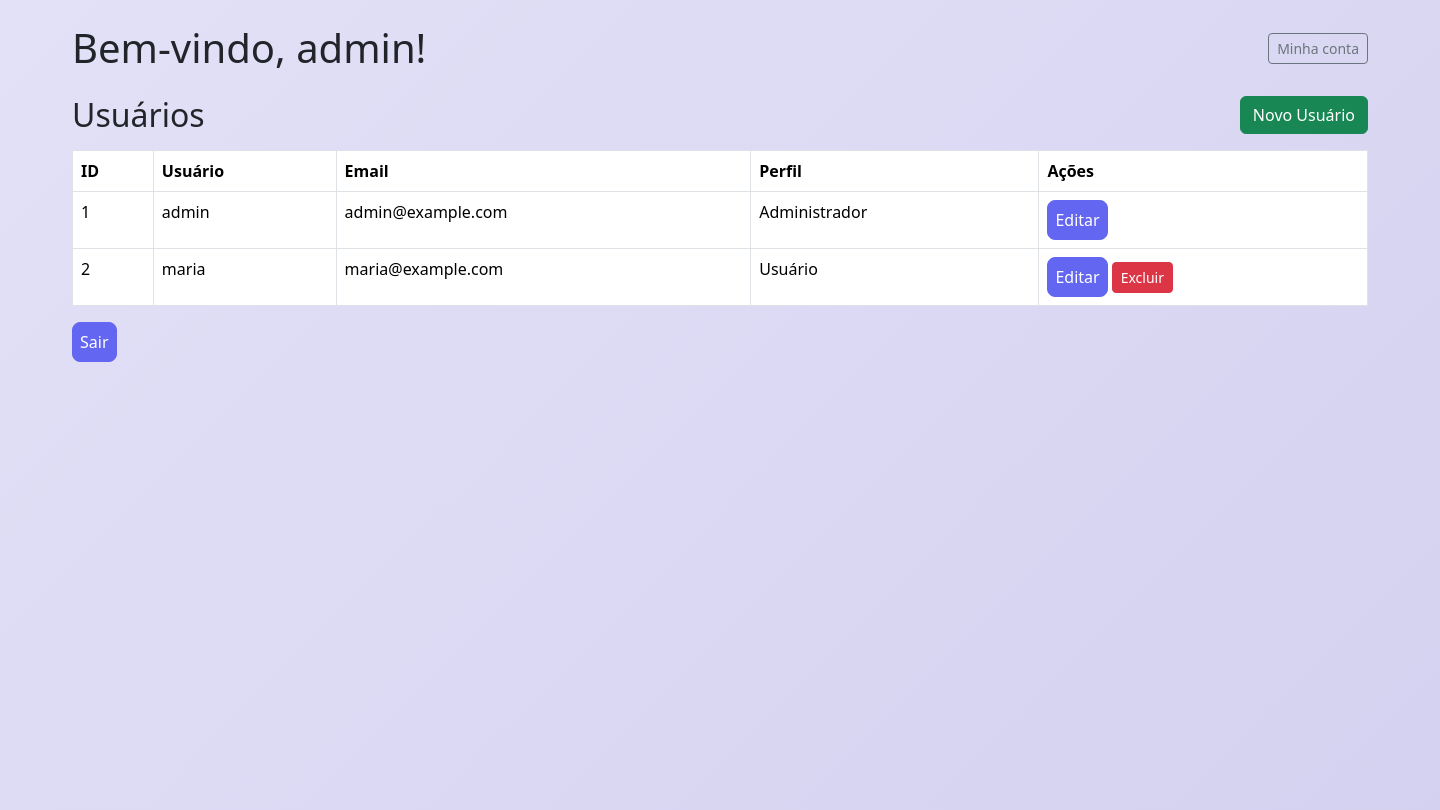
painel admin › não oferece excluir nem mudar o perfil da própria conta
The width and height of the screenshot is (1440, 810).
Check: the button "Excluir" is shown, box [1112,262,1173,293]
What coordinates should you click on to do the following:
click the button "Editar" in the row of "admin@example.com"
I would click on:
 (1078, 220)
Its box is [1047,200,1108,240].
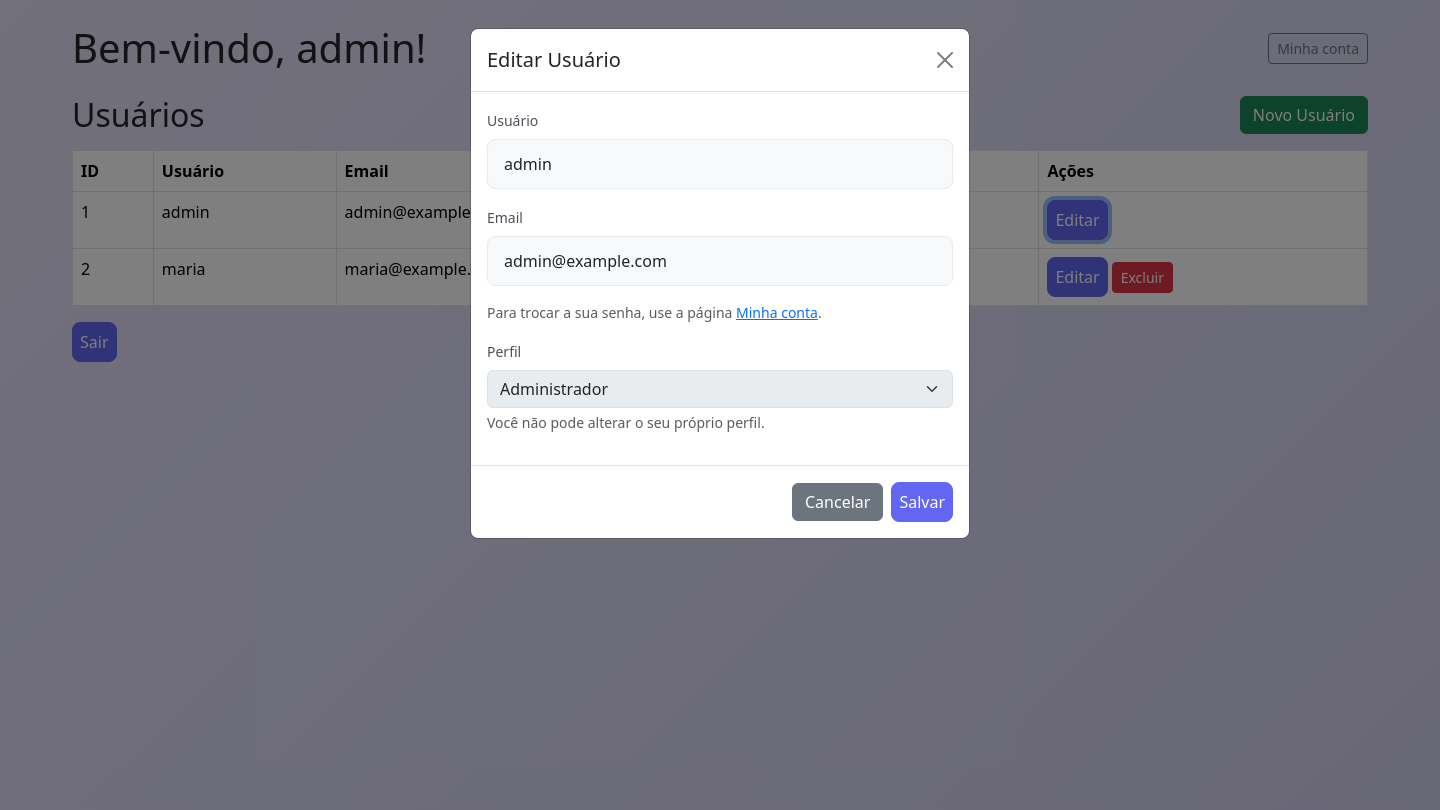
Check: the dropdown labelled "Perfil" is disabled, box [487,370,953,408]
